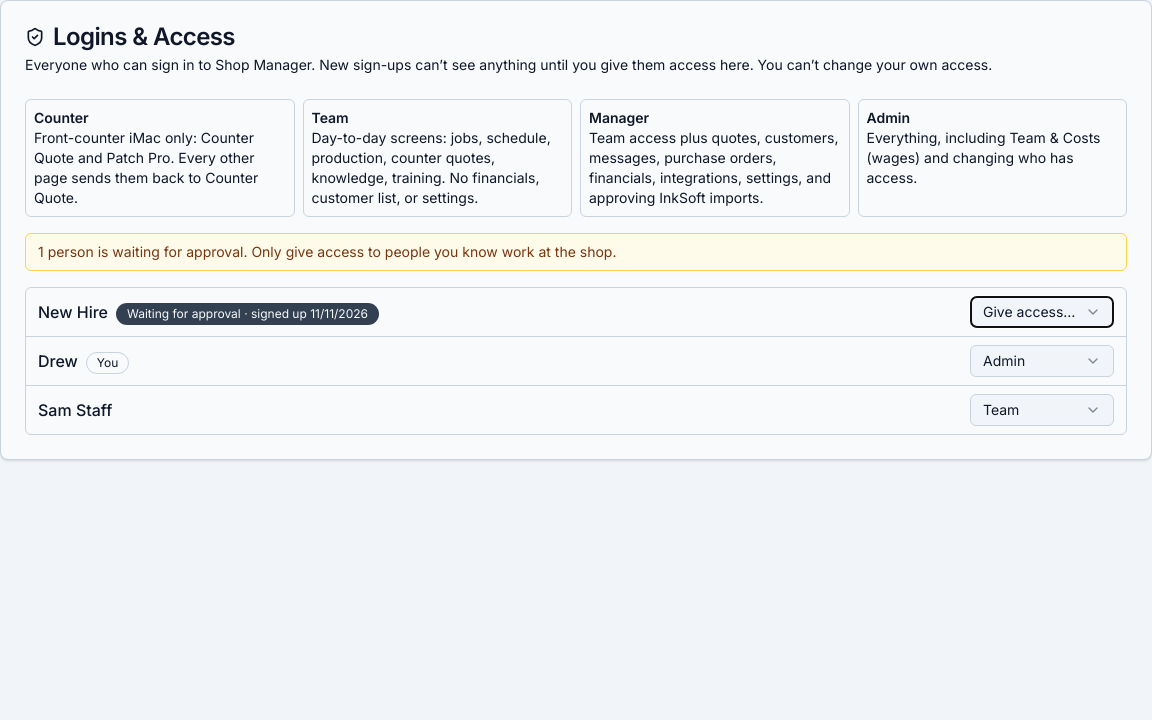
Test: Logins & Access › approving a new sign-up creates their first role
Later steps or results of the test are not shown.
Press Enter in the dropdown named "Access for New Hire", box [970, 296, 1114, 328]
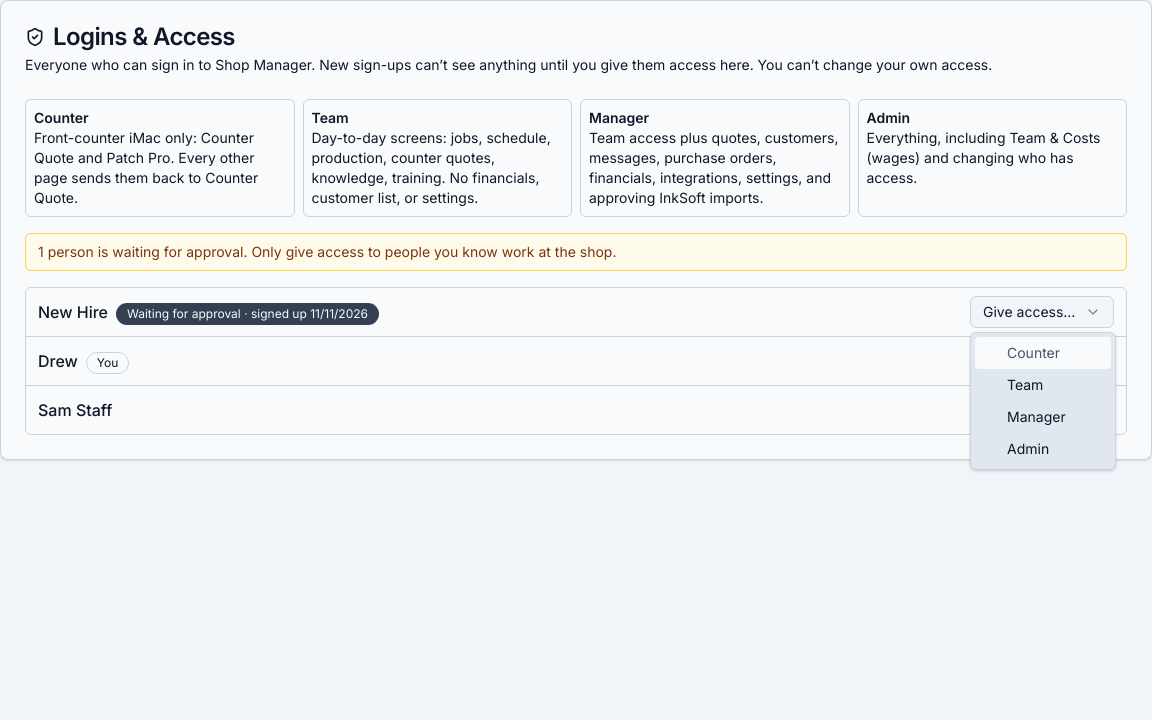
Click the option "Team": (1025, 384) [1007, 376, 1043, 393]
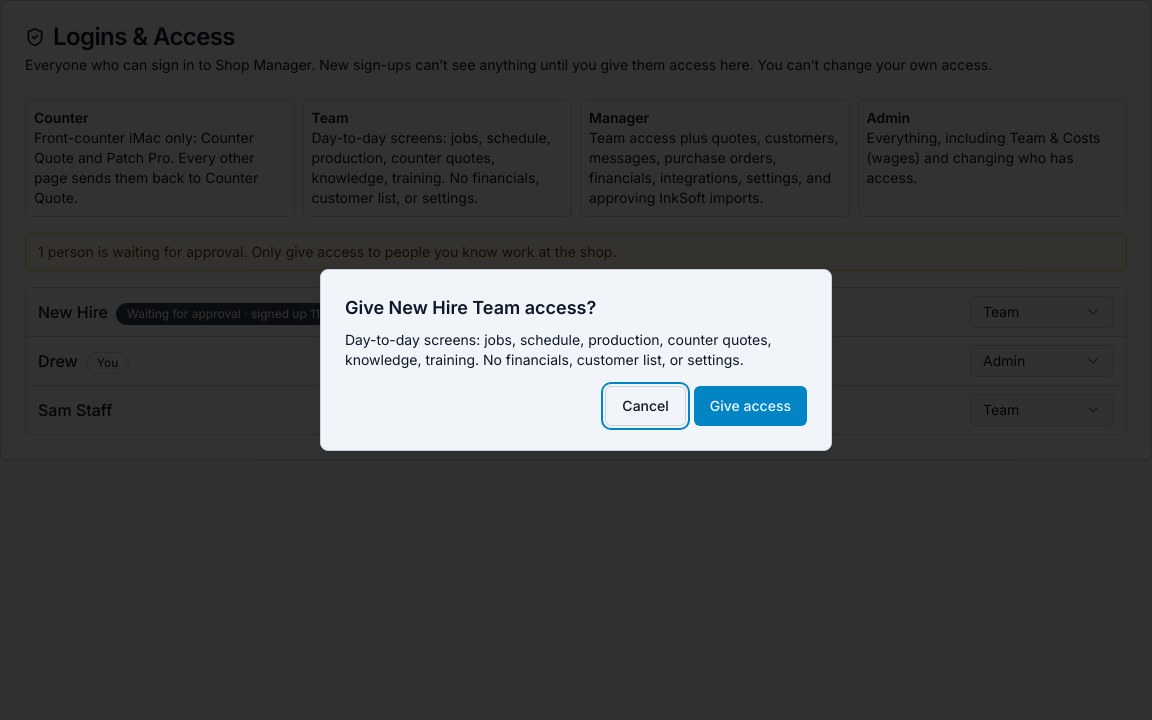
Check: the heading "Give New Hire Team access?" is shown, box [345, 297, 596, 318]
